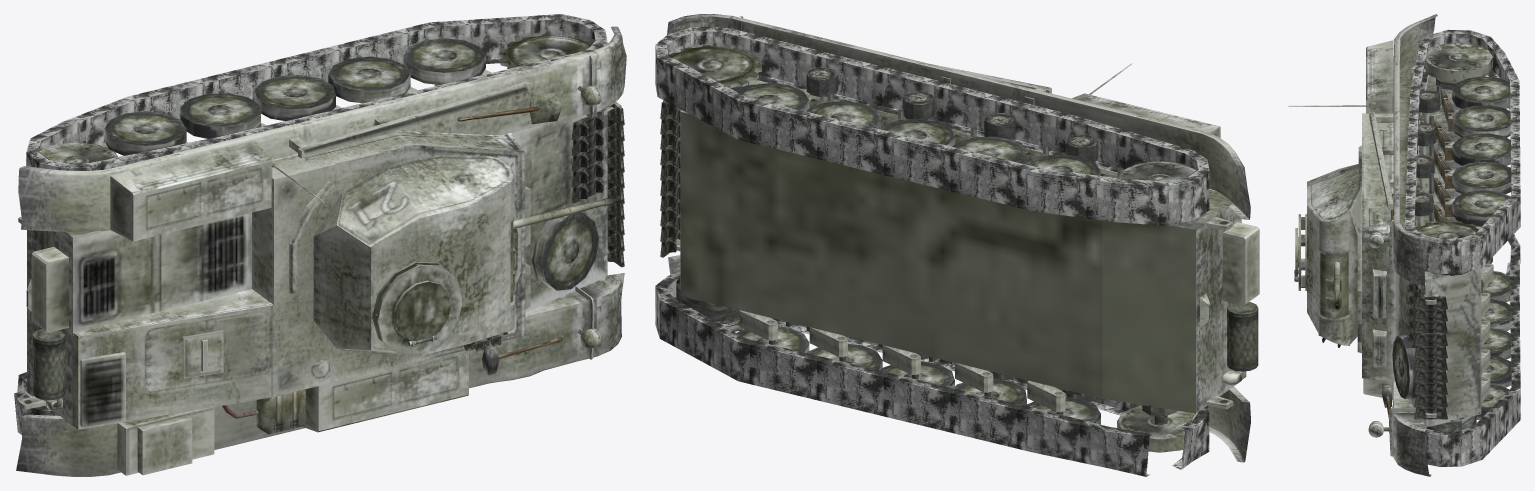
The model's file is vehicle_panzer_ii_winter_r_tread_d.glb.
3 renders of one model, left to right at view 1: azimuth 30°, elevation 25°; view 2: azimuth 150°, elevation 25°; view 3: azimuth 270°, elevation 25°, orthographic. The views are drawn at different scales.
Size of the model in its own units: 239 by 115 by 103.
2 materials, 2 textured.
